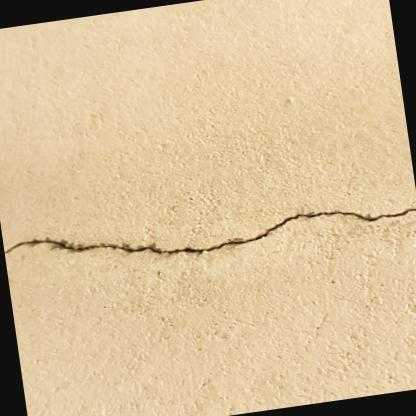crack: (4, 207, 416, 253)
